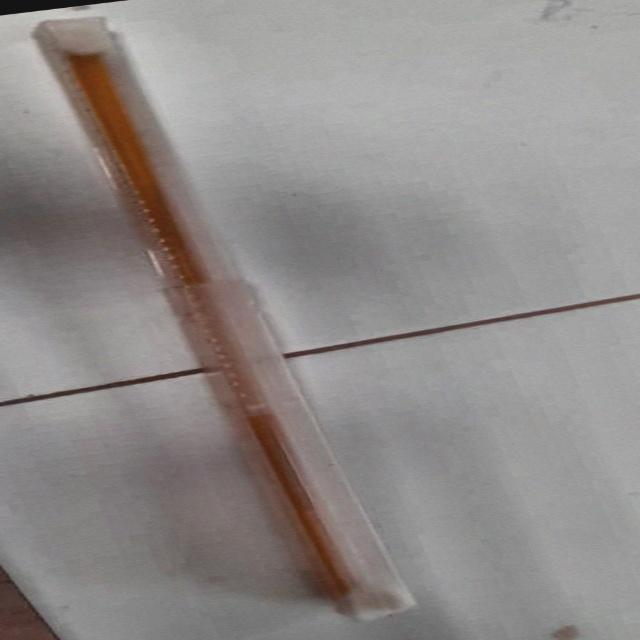Thermometer: (24, 2, 426, 640)
